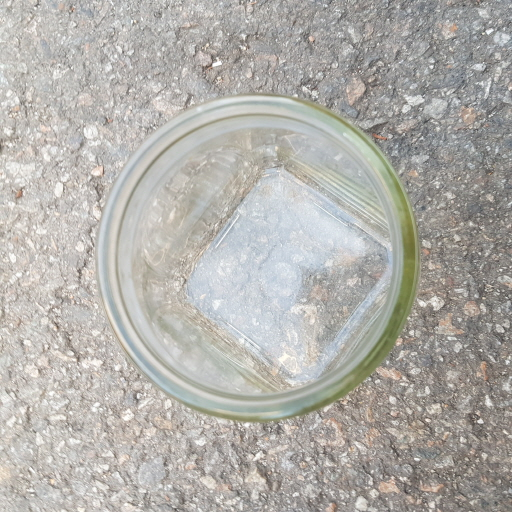Glass_5: (92, 87, 420, 423)
